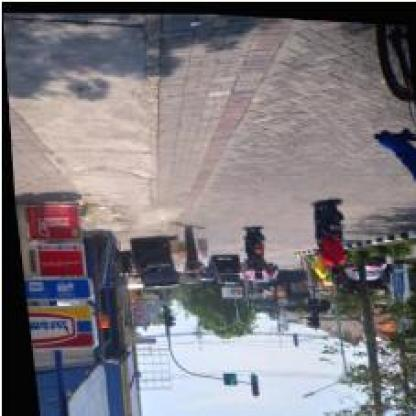green: (156, 304, 167, 324), (245, 370, 253, 392), (308, 301, 315, 322)
